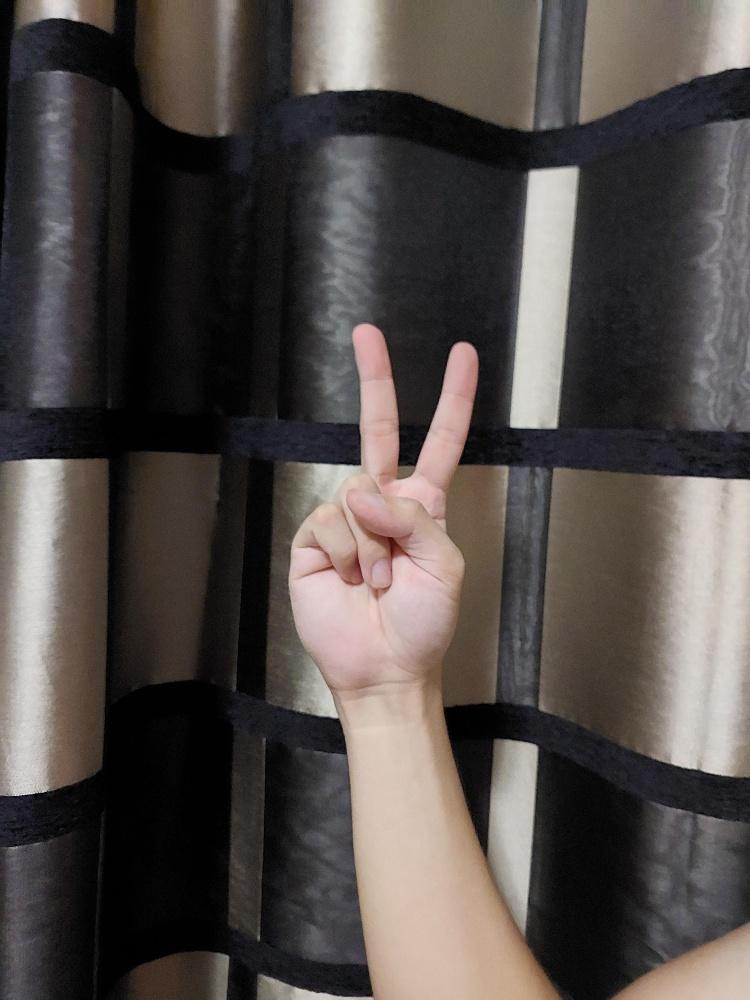v: (286, 319, 479, 690)
